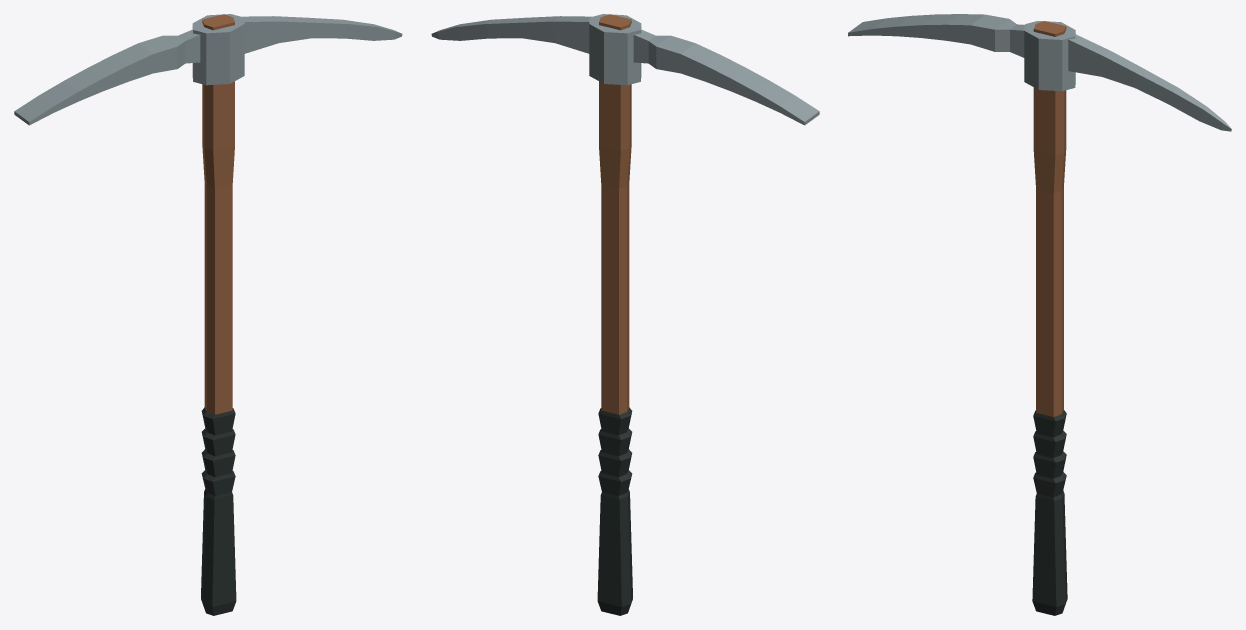
The model's file is Phase4_pickaxe.glb.
The picture shows the model from 3 angles, left to right: view 1: azimuth 30°, elevation 25°; view 2: azimuth 150°, elevation 25°; view 3: azimuth 330°, elevation 25°; orthographic projection.
Visible parts, largest first — view 1: PickSteel, PickTimber, PickGrip; view 2: PickSteel, PickTimber, PickGrip; view 3: PickSteel, PickTimber, PickGrip.
Boxes of the visible parts, x1=… form: PickSteel: x1=14, y1=14, x2=402, y2=125; PickTimber: x1=202, y1=14, x2=234, y2=414; PickGrip: x1=201, y1=407, x2=236, y2=615; PickSteel: x1=431, y1=14, x2=819, y2=125; PickTimber: x1=599, y1=14, x2=631, y2=414; PickGrip: x1=597, y1=407, x2=632, y2=615; PickSteel: x1=848, y1=14, x2=1231, y2=131; PickTimber: x1=1033, y1=21, x2=1066, y2=416; PickGrip: x1=1032, y1=410, x2=1067, y2=615.
Bounding box in the file's own units: 2.57 × 3.8 × 0.2668.
